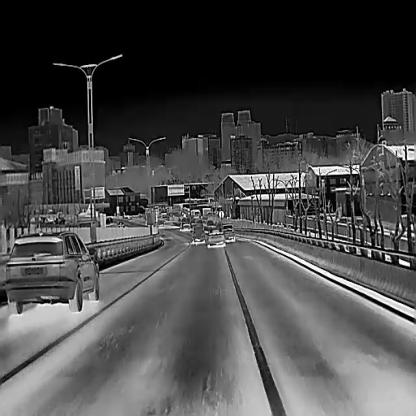car: (5, 230, 99, 314), (207, 227, 224, 245), (190, 223, 205, 240), (221, 222, 235, 237), (180, 221, 191, 229), (190, 208, 200, 216)
truck: (142, 206, 165, 227)
